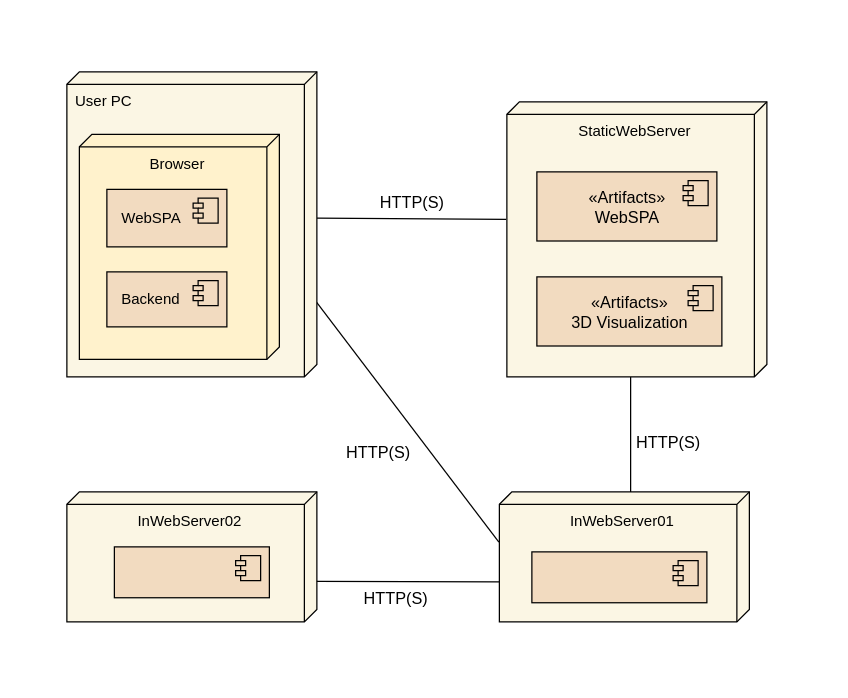
Image size: 848x698. Some labels were removed from this diagram. The shapes that lost their labels are listed below. From the top down, each one's centre as x and y in pixels, then its label:
At (x=191, y=572): "Planning".
At (x=619, y=577): "ManagementCore".
